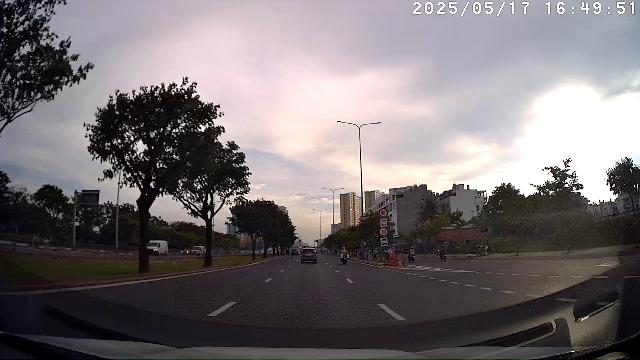127-toc-do-toi-da-60: (378, 228, 388, 236)
127-toc-do-toi-da-80: (379, 209, 388, 218)
